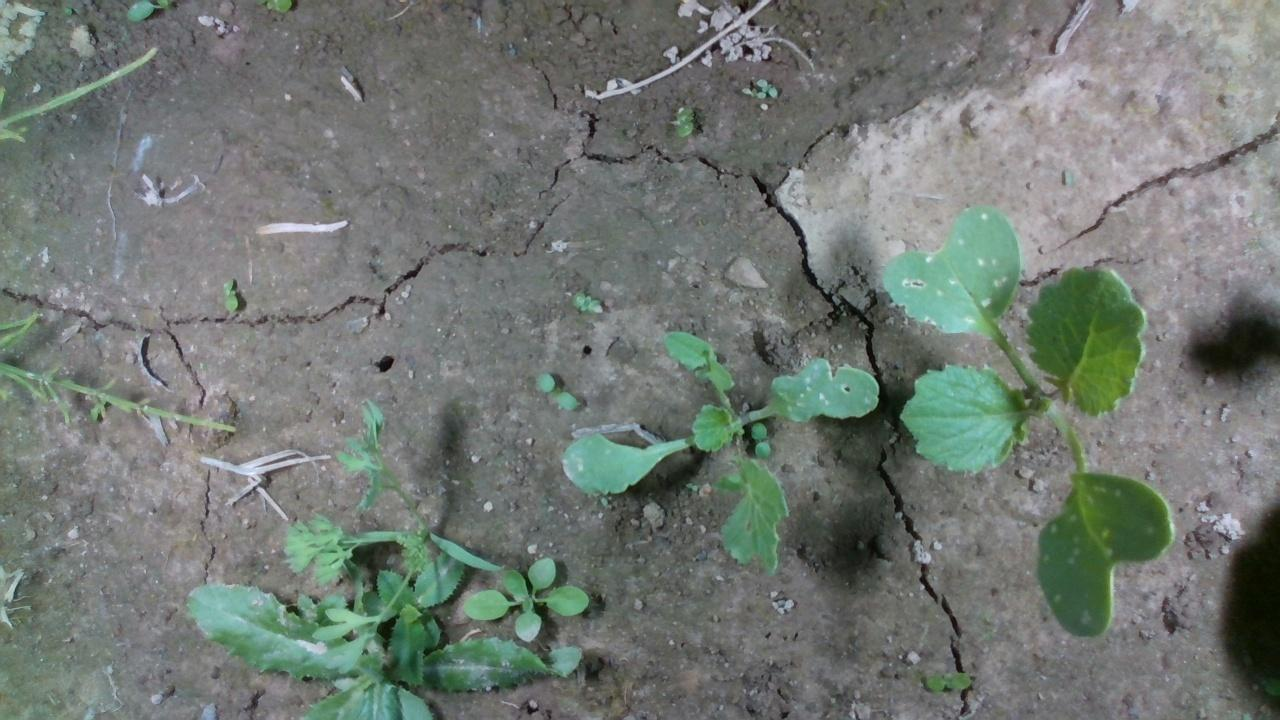weed: (533, 371, 580, 406), (932, 662, 975, 693), (214, 276, 245, 317), (570, 286, 604, 312), (753, 71, 779, 97)
